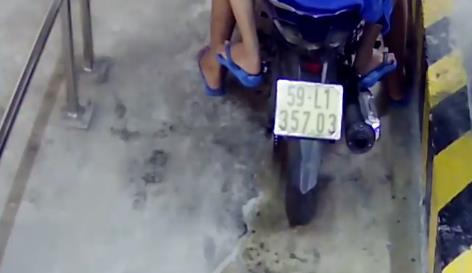lisence: (273, 77, 342, 140)
